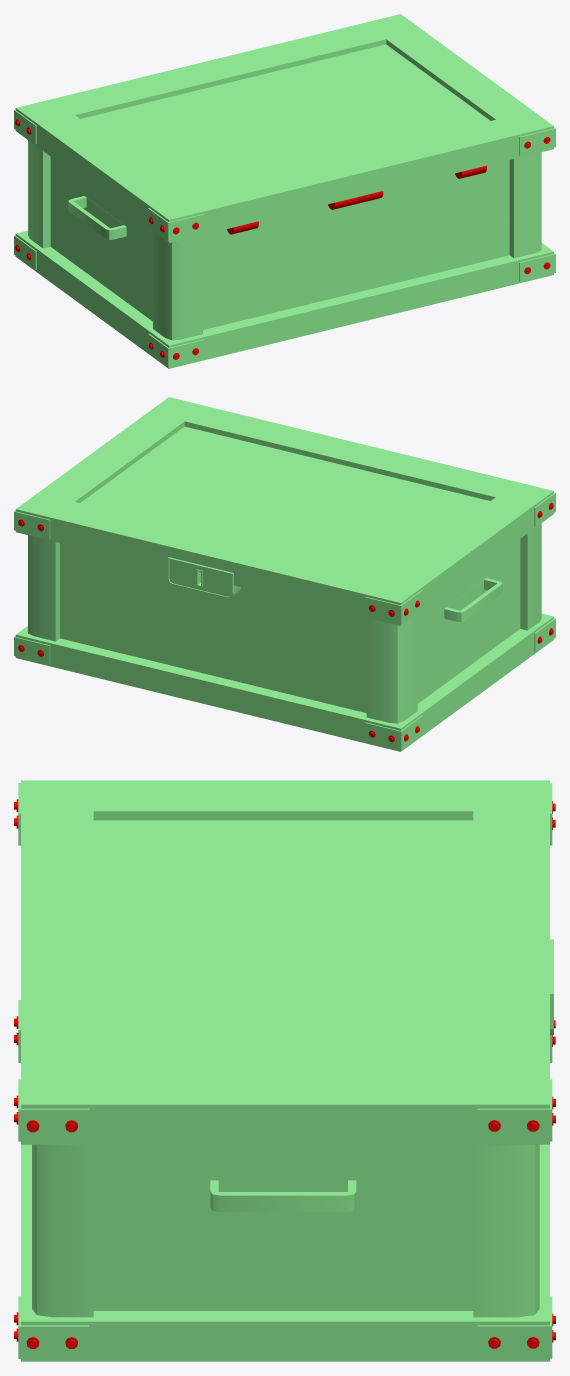
File: Crate_Updated.fbx
3 views of the same model, one above another, from view 1: azimuth 30°, elevation 25°; view 2: azimuth 150°, elevation 25°; view 3: azimuth 270°, elevation 25° (orthographic). The views are drawn at different scales.
Parts seen in each view (by area): view 1: Box036, Cylinder135; view 2: Box036, Cylinder135; view 3: Box036, Cylinder135.
Boxes of the visible parts, box(x1,y1,x2,y2) form: Box036: box(14, 14, 555, 368); Cylinder135: box(15, 119, 550, 359); Box036: box(14, 397, 555, 751); Cylinder135: box(18, 503, 553, 742); Box036: box(18, 780, 553, 1361); Cylinder135: box(14, 799, 555, 1348).
Size of the model in its own units: 1.01 by 0.3616 by 0.6908.
